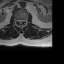CCS_normal: (19, 17, 21, 25)
LFS_normal: (23, 17, 25, 23)
LLS_normal: (21, 17, 23, 23)
RFS_normal: (16, 17, 17, 23)
RLS_normal: (17, 17, 19, 24)
